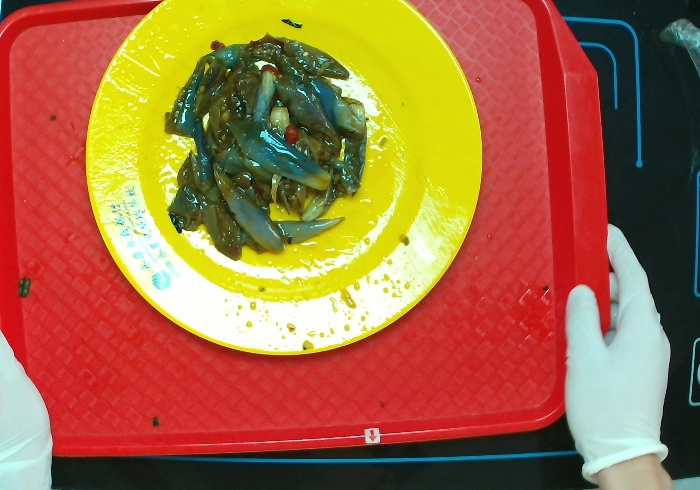YKMZ-Huang_Se_Mian_Pan: (84, 1, 484, 356)
